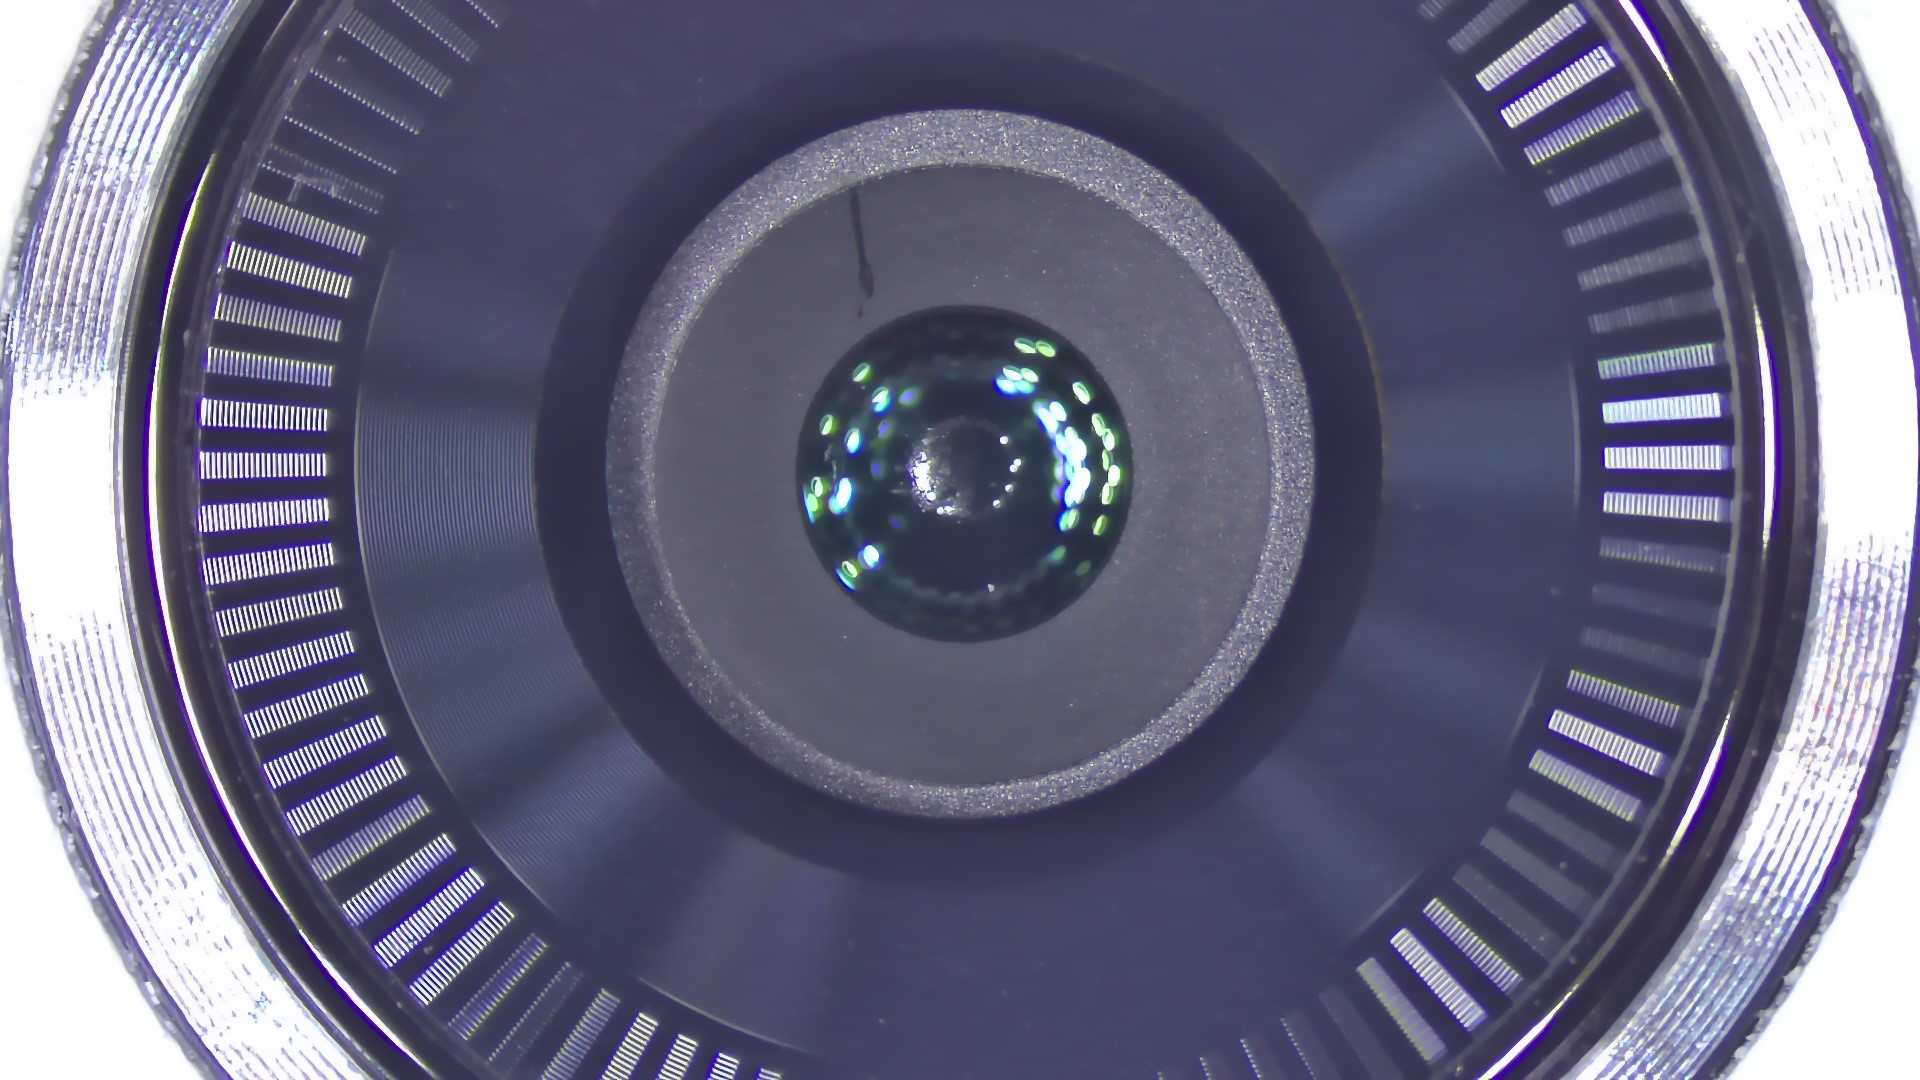crack: (837, 183, 879, 326)
